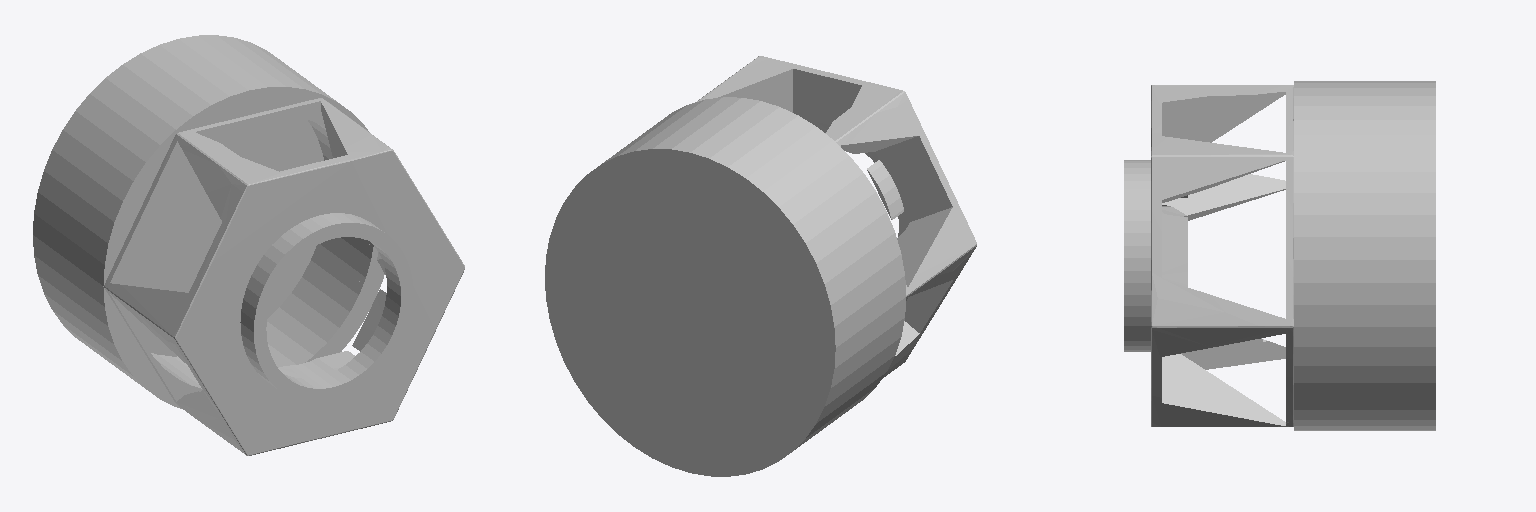
File: cupula.obj
3 renders of one model, left to right at view 1: azimuth 30°, elevation 25°; view 2: azimuth 150°, elevation 25°; view 3: azimuth 270°, elevation 25°, orthographic.
Parts seen in each view (by area): view 1: obj_0; view 2: obj_0; view 3: obj_0.
Part boxes in pixels (x1,y1,x2,y2): obj_0: (33, 35, 464, 455); obj_0: (545, 56, 976, 476); obj_0: (1124, 81, 1435, 430).
Size of the model in its own units: 81 by 85.26 by 75.